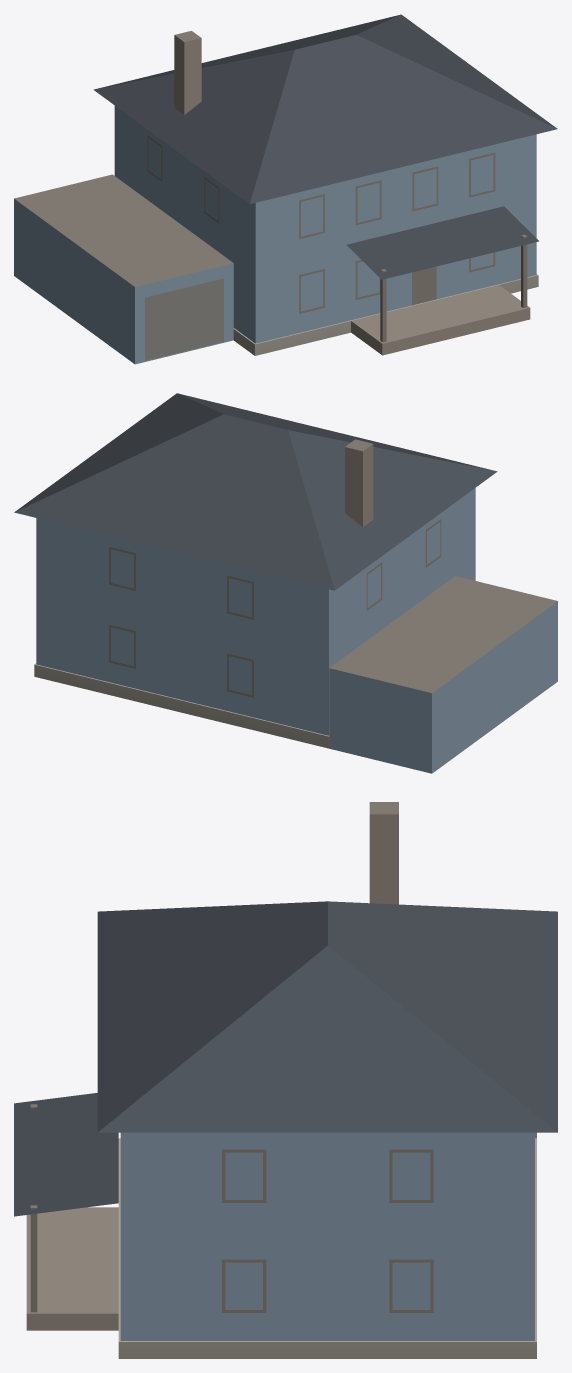
The model's file is house_e.glb.
3 views of the same model, one above another, from view 1: azimuth 30°, elevation 25°; view 2: azimuth 150°, elevation 25°; view 3: azimuth 270°, elevation 25° (orthographic). The views are drawn at different scales.
Parts seen in each view (by area): view 1: house_e; view 2: house_e; view 3: house_e.
Part boxes in pixels (box(x1,y1,x2,y2)): house_e: box(14, 14, 557, 364); house_e: box(14, 393, 557, 773); house_e: box(14, 802, 557, 1358).
Bounding box in the file's own units: 16 × 9.6 × 13.
